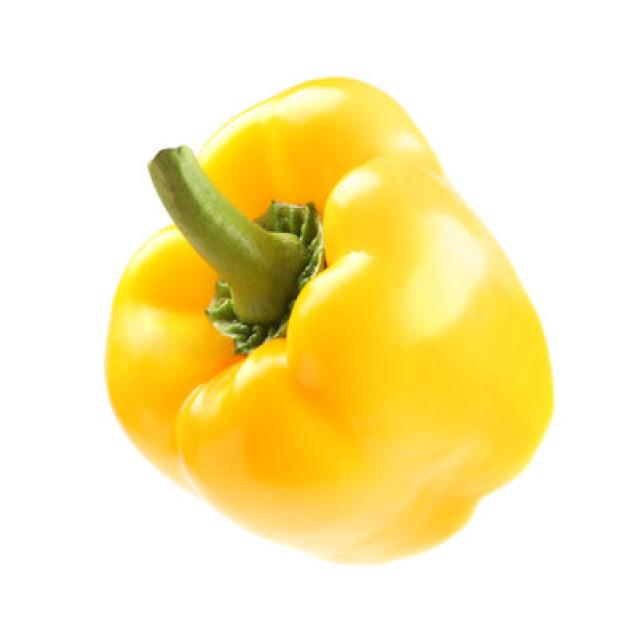Bell Pepper: (104, 75, 555, 568)
